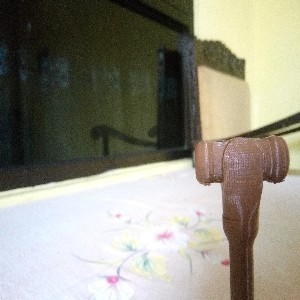palu: (193, 133, 288, 300)
